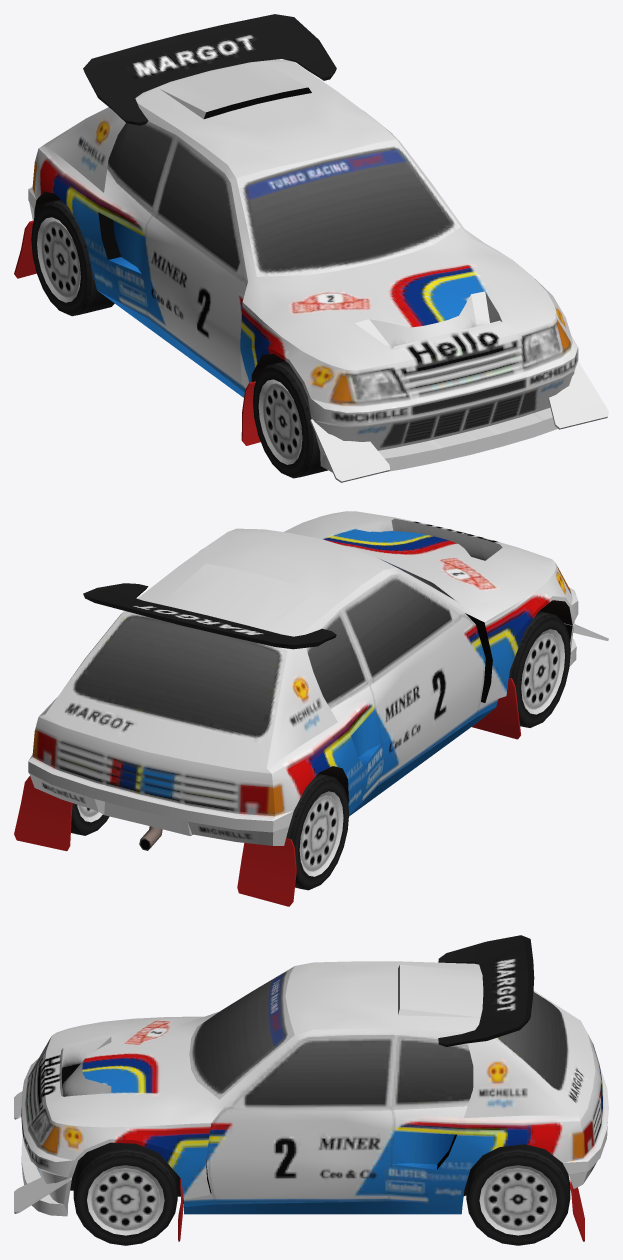
Rendered from Peugeot 205.fbx.
3 renders of one model, top to bottom at view 1: azimuth 30°, elevation 25°; view 2: azimuth 150°, elevation 25°; view 3: azimuth 270°, elevation 25°, orthographic. The views are drawn at different scales.
Parts seen in each view (by area): view 1: Peugeot 205, L_front_wheel_geo #370579.003, L_front_wheel_geo #370579.002; view 2: Peugeot 205, L_front_wheel_geo #370579.002, L_front_wheel_geo #370579.003, L_front_wheel_geo #370579.001; view 3: Peugeot 205, L_front_wheel_geo #370579, L_front_wheel_geo #370579.001.
Boxes of the visible parts, x1=… form: Peugeot 205: x1=14, y1=14, x2=608, y2=482; L_front_wheel_geo #370579.003: x1=253, y1=361, x2=327, y2=478; L_front_wheel_geo #370579.002: x1=31, y1=199, x2=114, y2=316; Peugeot 205: x1=14, y1=511, x2=608, y2=906; L_front_wheel_geo #370579.002: x1=286, y1=773, x2=349, y2=890; L_front_wheel_geo #370579.003: x1=509, y1=611, x2=570, y2=727; L_front_wheel_geo #370579.001: x1=71, y1=803, x2=109, y2=835; Peugeot 205: x1=14, y1=935, x2=608, y2=1241; L_front_wheel_geo #370579: x1=73, y1=1142, x2=177, y2=1245; L_front_wheel_geo #370579.001: x1=466, y1=1144, x2=570, y2=1245.
Bounding box in the file's own units: 185 × 153 × 387.
5 materials, 5 textured.
